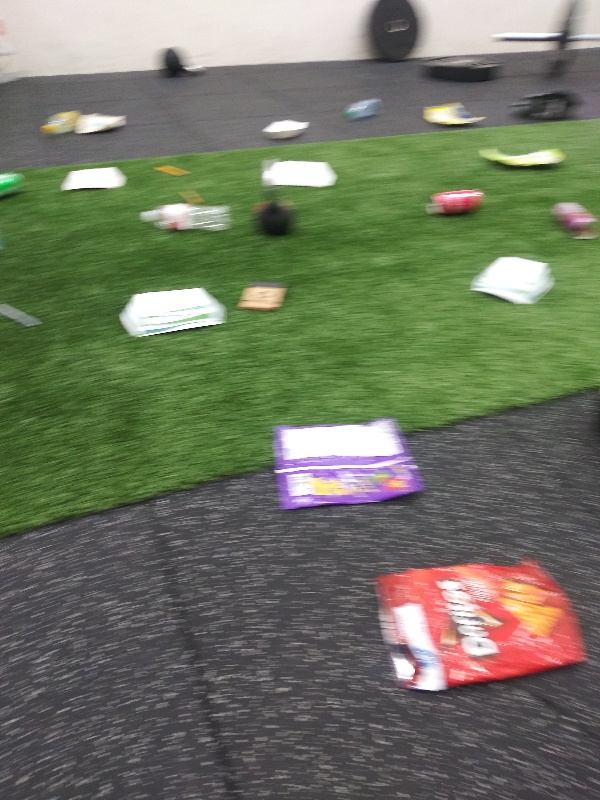bag: (370, 555, 592, 693), (266, 416, 428, 513), (475, 144, 571, 170), (419, 100, 492, 130), (72, 111, 129, 141)
bottle: (138, 200, 238, 235), (36, 110, 89, 137), (339, 97, 386, 126)
can: (547, 197, 600, 246), (424, 187, 488, 219), (1, 168, 34, 202)
plate: (115, 284, 232, 343), (464, 254, 557, 306), (58, 163, 132, 195), (274, 156, 341, 188), (259, 118, 311, 144)
